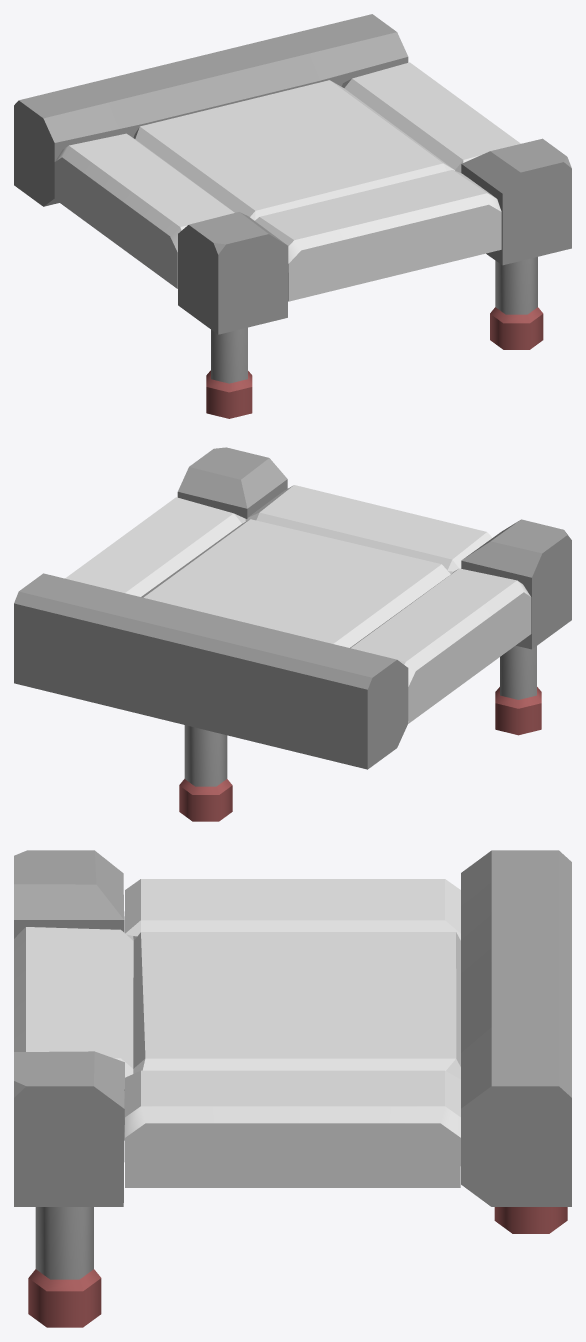
File: SM_ConveyorBelt_Tri.fbx
3 renders of one model, top to bottom at view 1: azimuth 30°, elevation 25°; view 2: azimuth 150°, elevation 25°; view 3: azimuth 270°, elevation 25°, orthographic. The views are drawn at different scales.
Parts seen in each view (by area): view 1: Moving, Static; view 2: Static, Moving; view 3: Moving, Static.
Part boxes in pixels (box(x1,y1,x2,y2)): Moving: box(54, 62, 520, 301); Static: box(14, 14, 571, 418); Static: box(14, 447, 571, 821); Moving: box(65, 485, 531, 723); Moving: box(14, 879, 460, 1187); Static: box(14, 850, 571, 1327).
Bounding box in the file's own units: 101 × 49.89 × 100.
